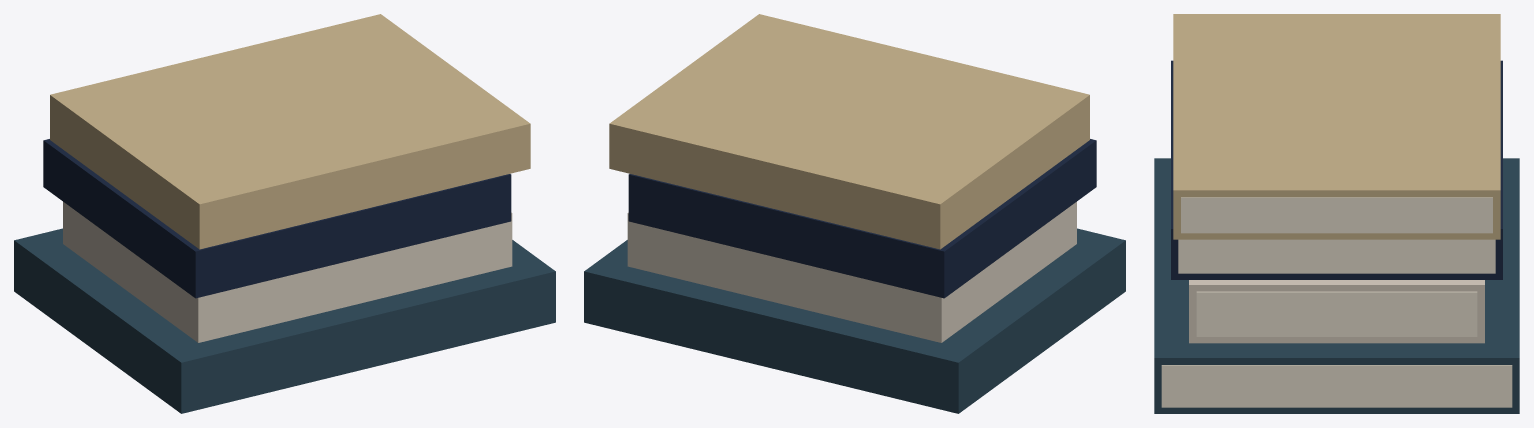
Rendered from BIB-BKS-std.glb.
3 renders of one model, left to right at view 1: azimuth 30°, elevation 25°; view 2: azimuth 150°, elevation 25°; view 3: azimuth 270°, elevation 25°, orthographic. The views are drawn at different scales.
Visible parts, largest first — view 1: BIB-BKS-std; view 2: BIB-BKS-std; view 3: BIB-BKS-std.
Part boxes in pixels (bbox=[...]): BIB-BKS-std: bbox=[14, 14, 555, 413]; BIB-BKS-std: bbox=[584, 14, 1125, 413]; BIB-BKS-std: bbox=[1154, 14, 1519, 413].
Size of the model in its own units: 0.2519 by 0.1261 by 0.1945.
